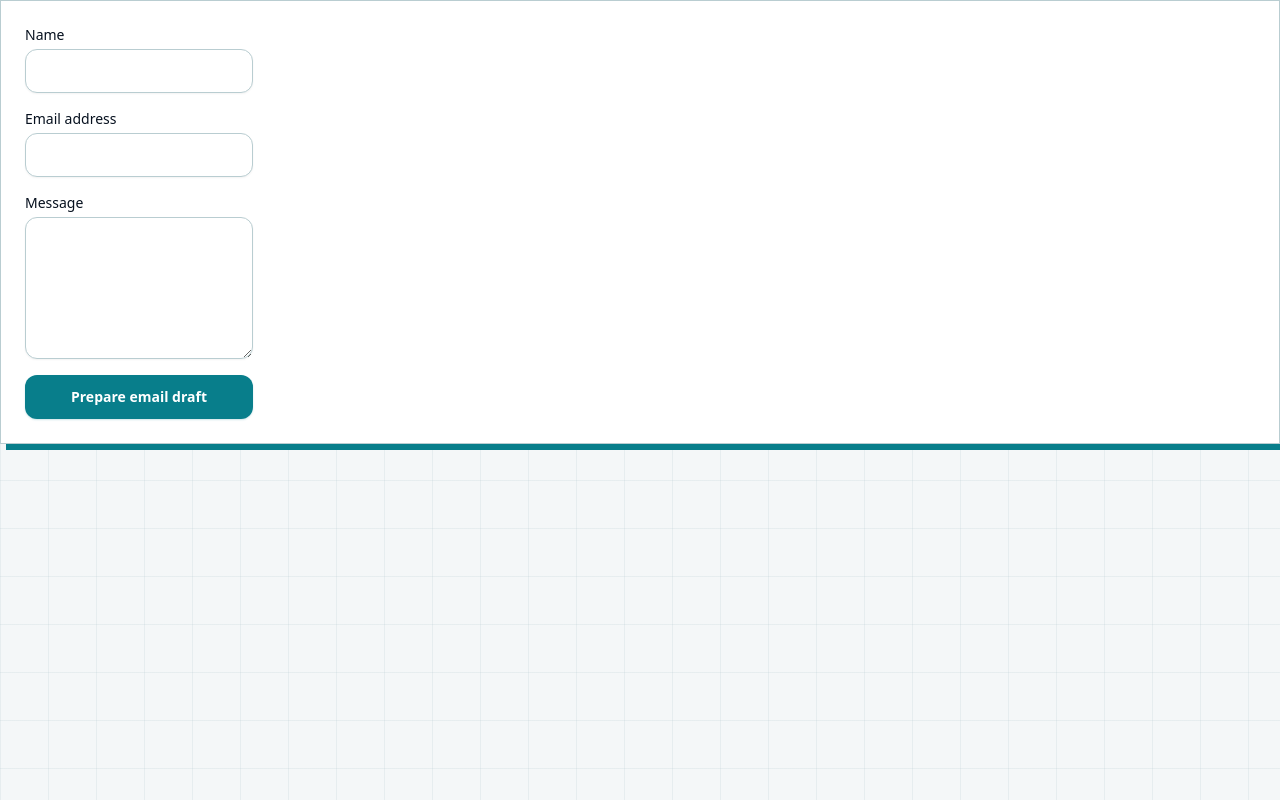
Test: ContactFormContainer › shows translated validation and prepares a truthful local handoff
Step 1. Click the button "Prepare email draft" → point(139, 397), box x1=25 y1=375 x2=253 y2=419
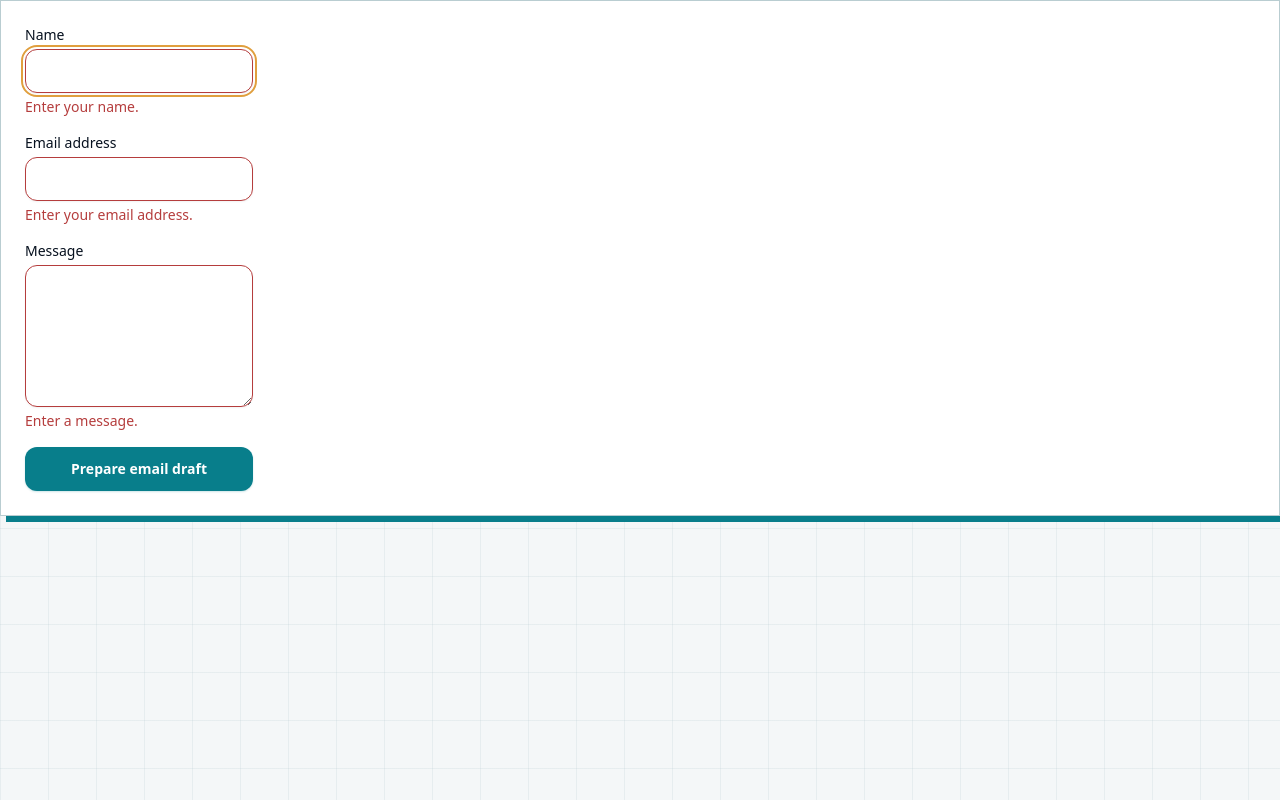
Check: the text "Enter your name." is shown, box x1=25 y1=97 x2=139 y2=116
Check: the text "Enter your email address." is shown, box x1=25 y1=205 x2=193 y2=224
Check: the text "Enter a message." is shown, box x1=25 y1=411 x2=138 y2=430
Step 2. Type "A" into the field labelled "Name" → point(139, 71), box x1=25 y1=49 x2=253 y2=93
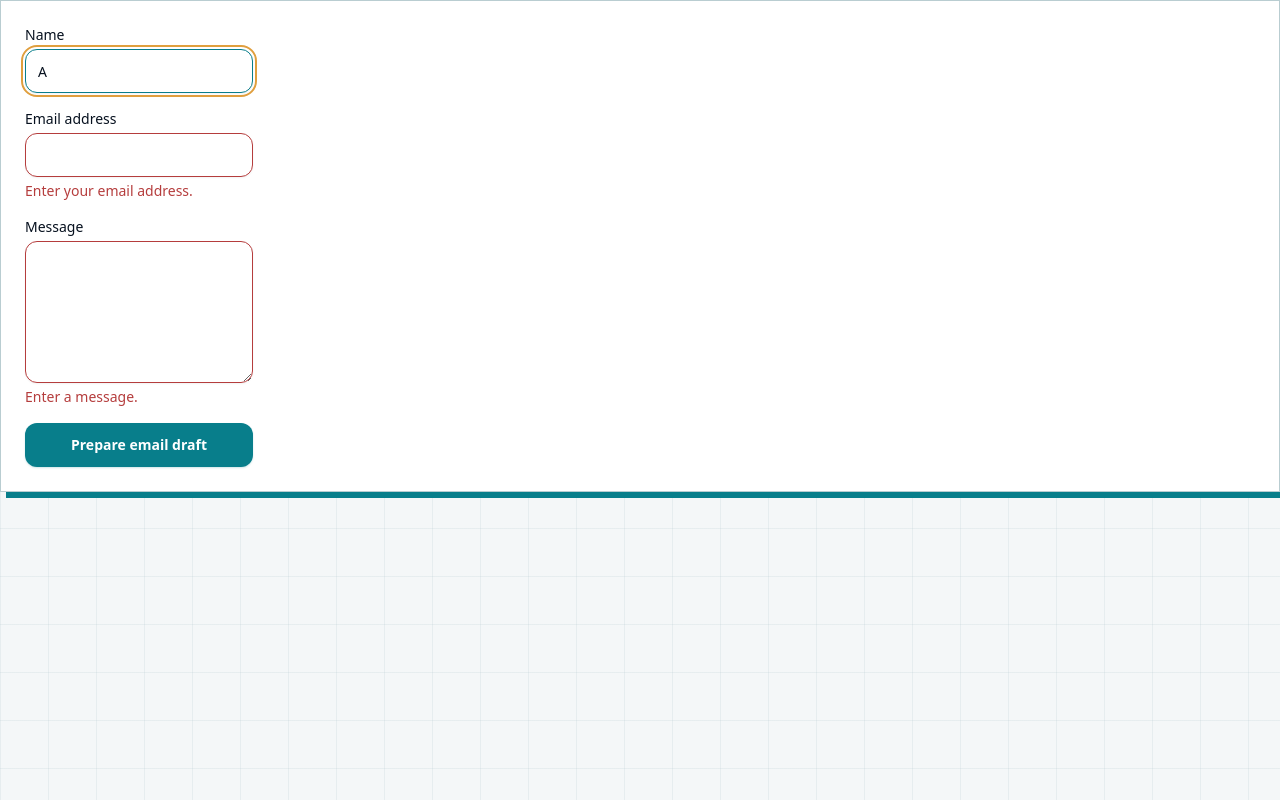
Step 3. Type "a@b.co" into the field labelled "Email address" → point(139, 155), box x1=25 y1=133 x2=253 y2=177
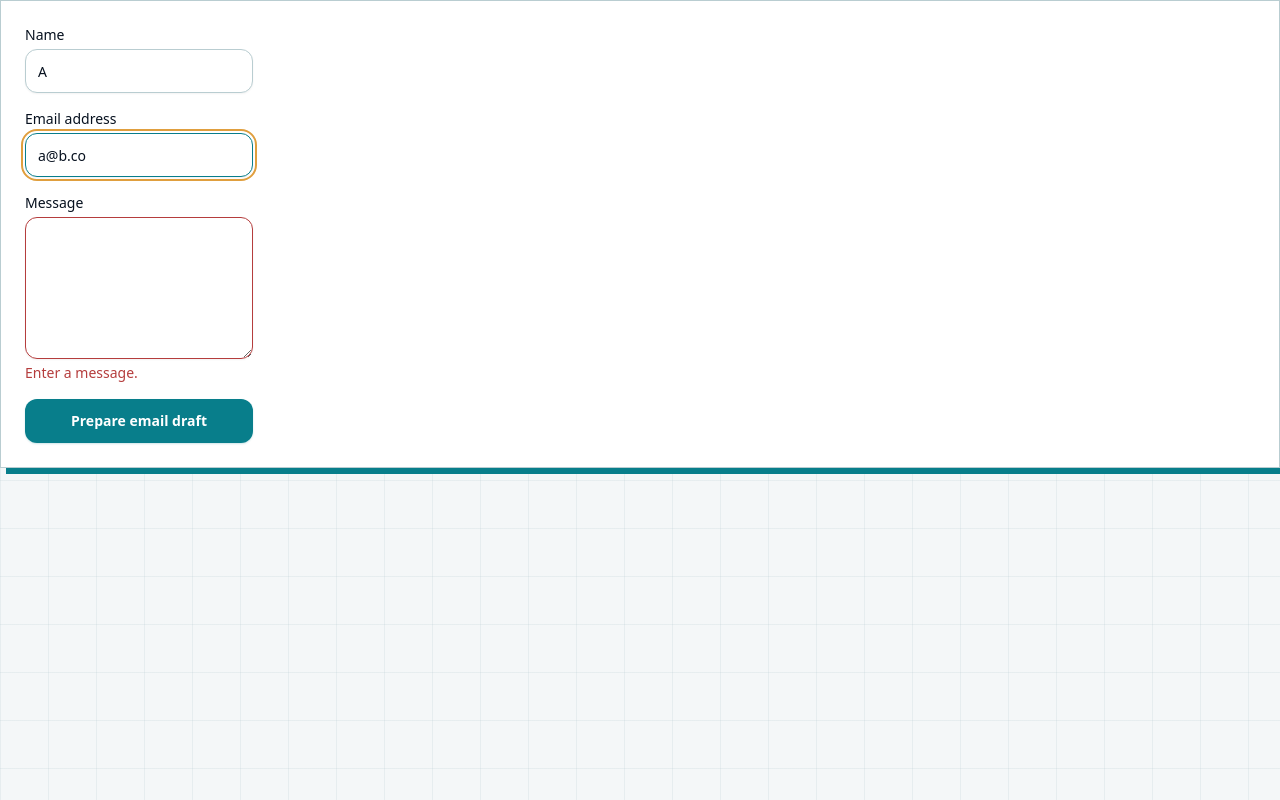
Step 4. Type "12345678901234567890" into the text box labelled "Message" → point(139, 288), box x1=25 y1=217 x2=253 y2=359
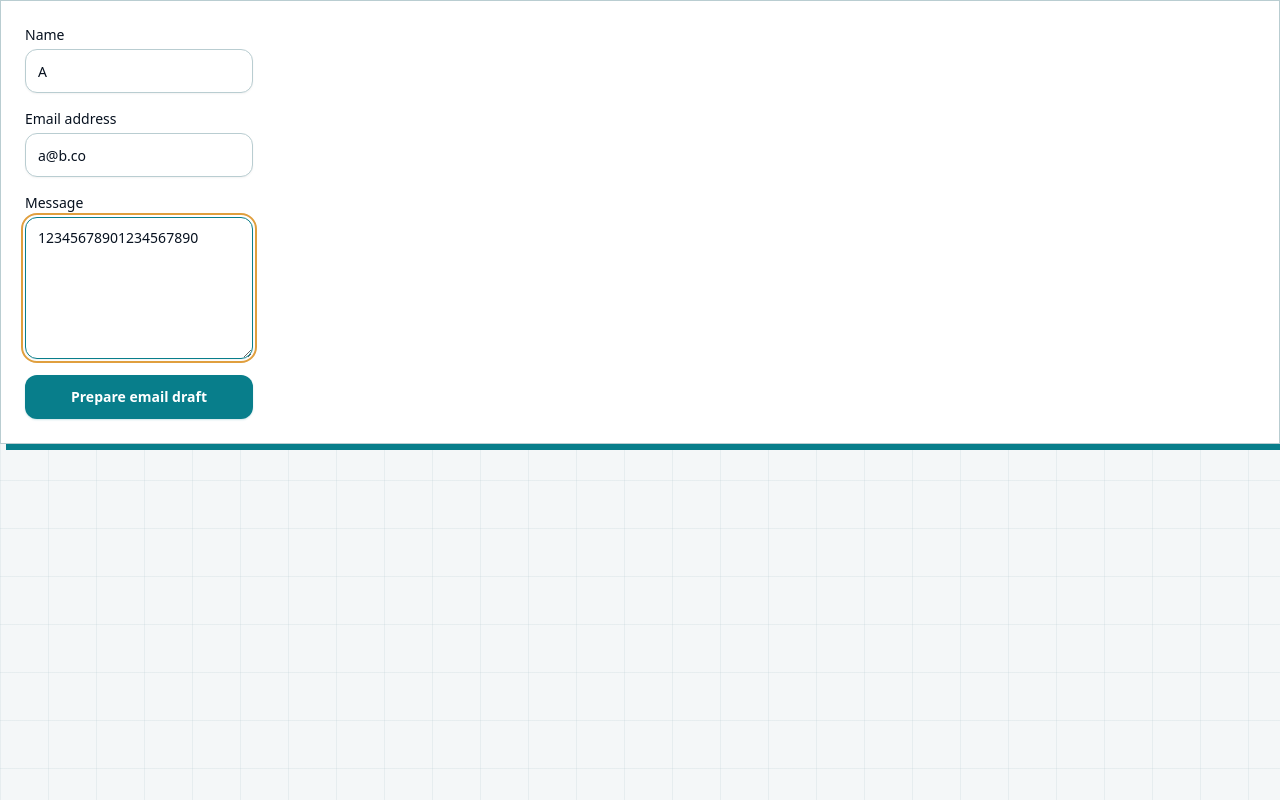
Step 5. Click the button "Prepare email draft" → point(139, 397), box x1=25 y1=375 x2=253 y2=419
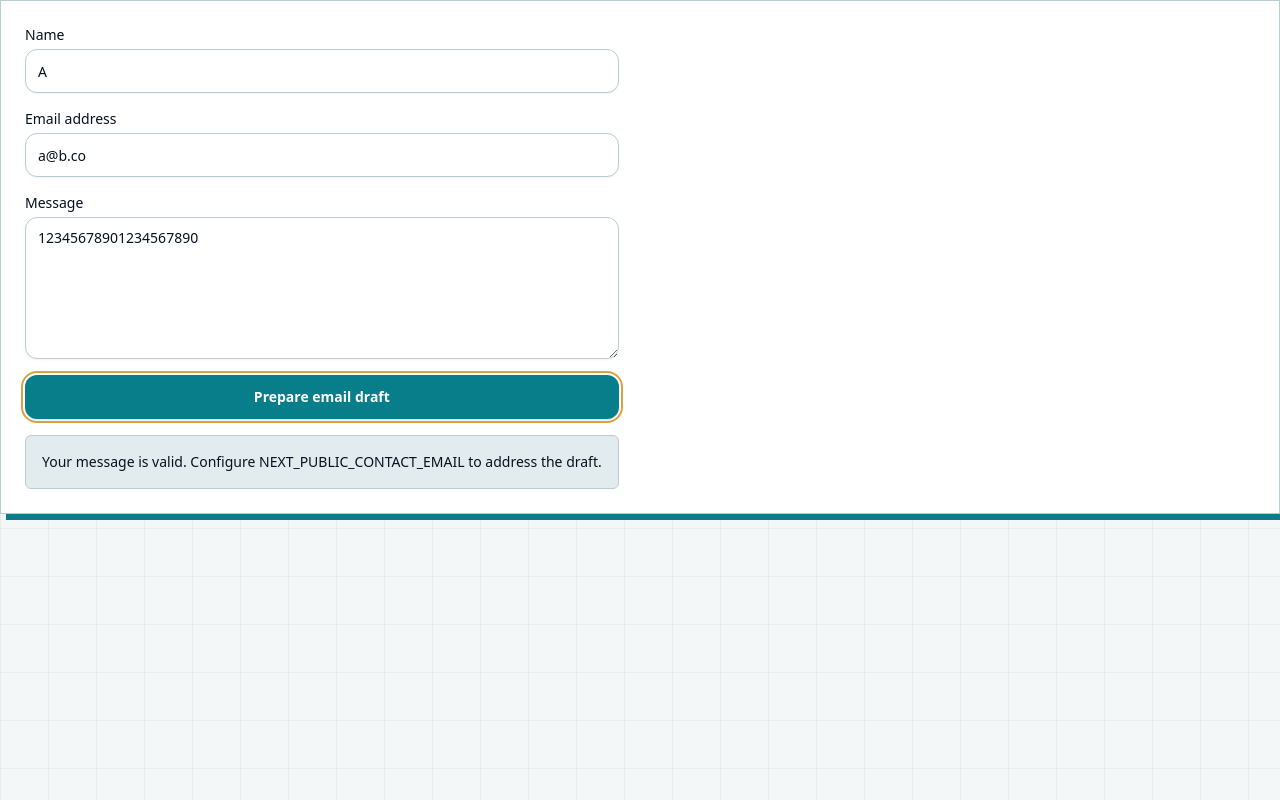
Check: the message "Enter your email address." is not shown
Check: the message reads "Your message is valid. Configure NEXT_PUBLIC_CONTACT_EMAIL to address the draft.", box x1=42 y1=452 x2=602 y2=471
